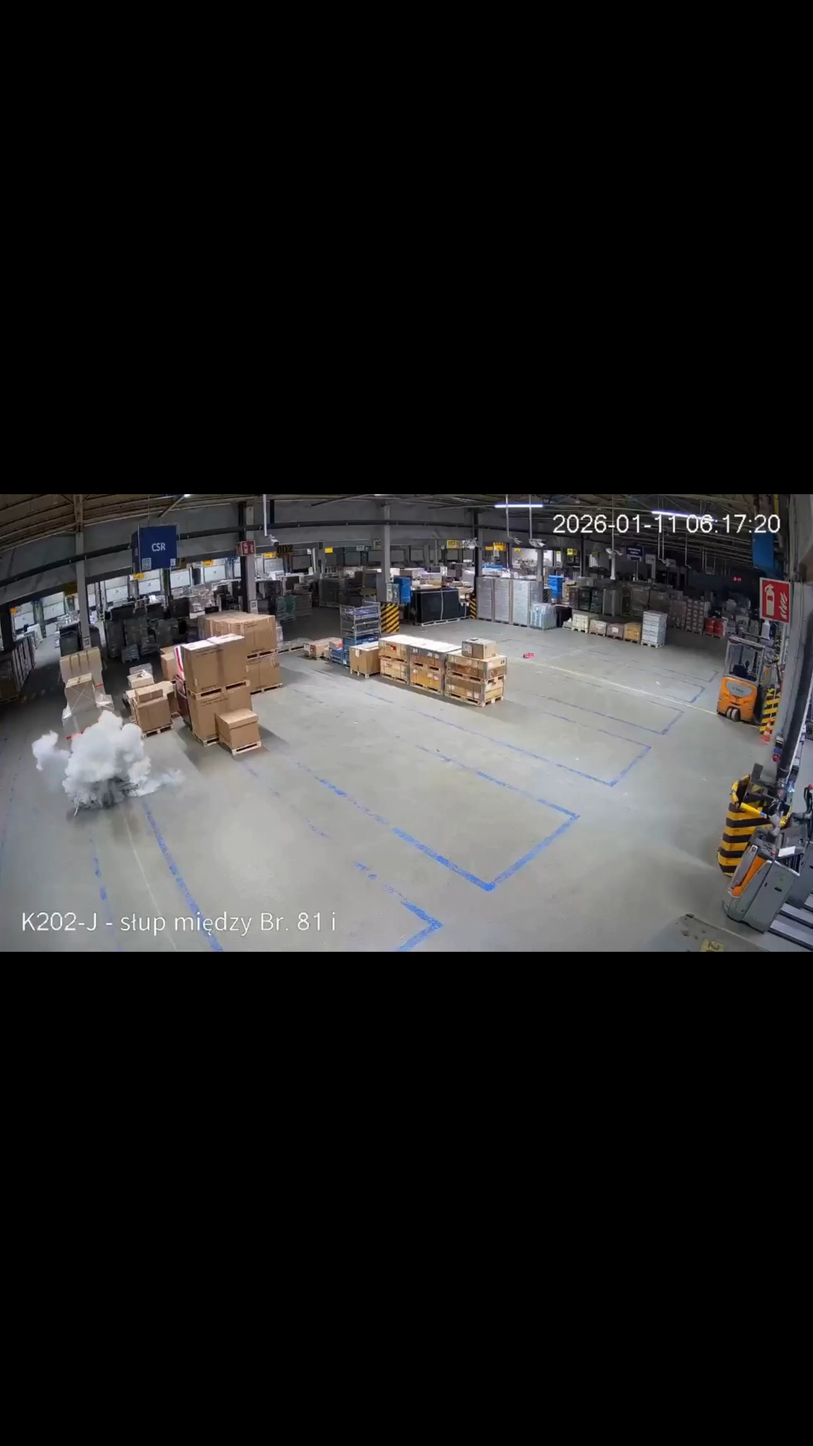smoke: (32, 711, 182, 814)
